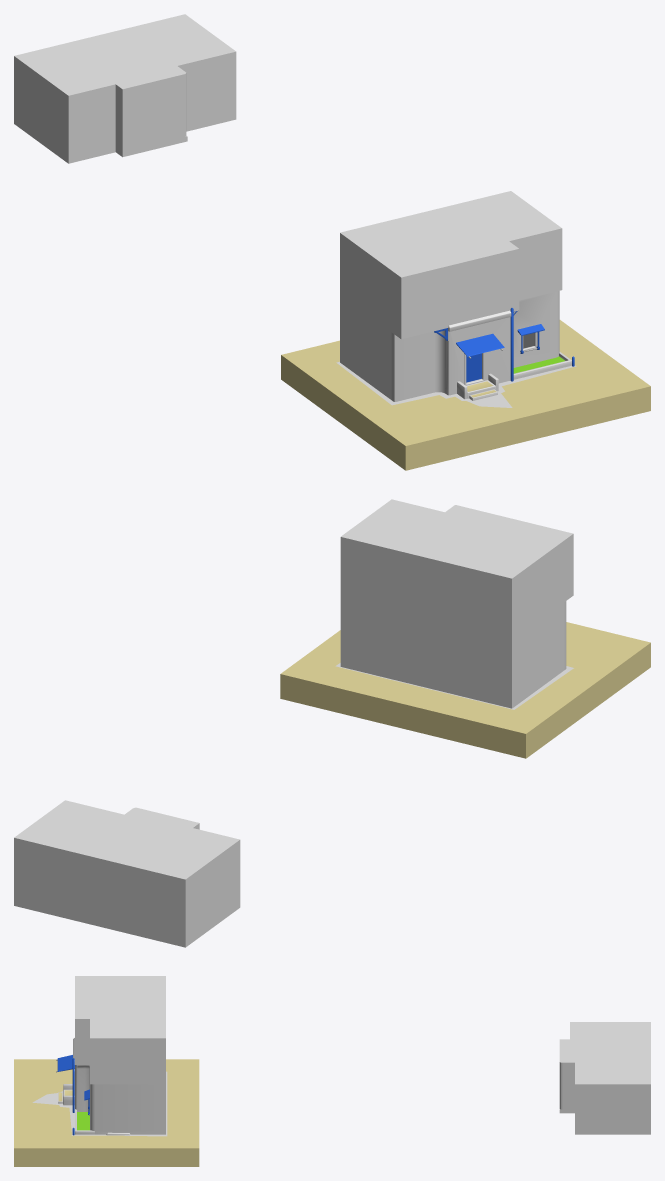
File: GrecHouse.fbx
3 views of the same model, one above another, from view 1: azimuth 30°, elevation 25°; view 2: azimuth 150°, elevation 25°; view 3: azimuth 270°, elevation 25° (orthographic). The views are drawn at different scales.
Visible parts, largest first — view 1: Cube_NoDoor, House_S1, Cube.005, House_S0_Decorated, Cube.003, Cube.002, Cube; view 2: Cube_NoDoor, House_S1, Cube.005, House_S0_Decorated; view 3: Cube.005, Cube_NoDoor, House_S1, House_S0_Decorated, Cube.003.
Part boxes in pixels (x1,y1,x2,y2): Cube_NoDoor: [14, 14, 236, 163]; House_S1: [340, 191, 562, 339]; Cube.005: [281, 320, 650, 470]; House_S0_Decorated: [340, 291, 559, 401]; Cube.003: [513, 352, 571, 379]; Cube.002: [457, 373, 498, 400]; Cube: [456, 333, 504, 356]; Cube_NoDoor: [14, 800, 240, 947]; House_S1: [340, 499, 573, 640]; Cube.005: [280, 622, 650, 758]; House_S0_Decorated: [340, 599, 566, 708]; Cube.005: [14, 1059, 199, 1166]; Cube_NoDoor: [559, 1022, 650, 1134]; House_S1: [75, 976, 165, 1084]; House_S0_Decorated: [73, 1038, 165, 1135]; Cube.003: [75, 1109, 94, 1134].
Size of the model in its own units: 2077 by 1250 by 6279.
